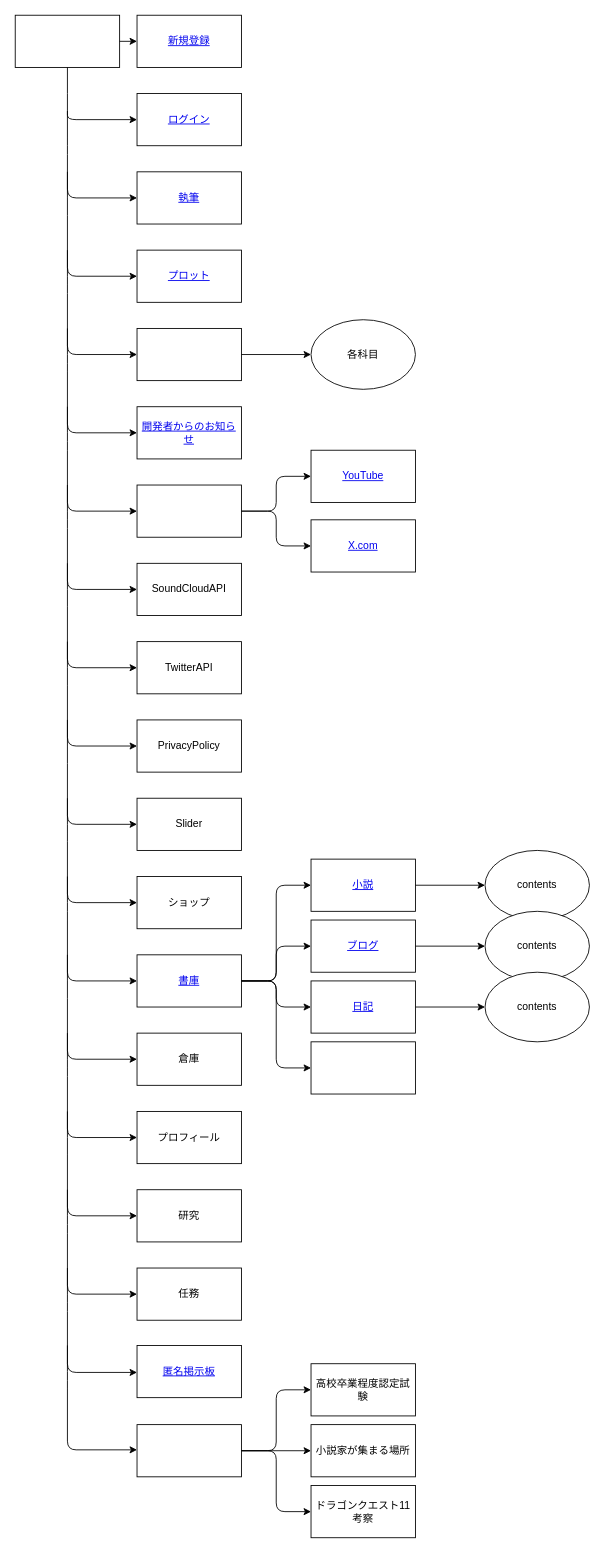
Some shapes in this 605 by 1553 pixel diagram are drawn without their labels. Each missing label, with the box of its shape:
HP: (14, 14, 120, 67)
Slack: (136, 1424, 241, 1477)
動画: (310, 1041, 415, 1094)
開発者に問い合わせる: (136, 484, 241, 537)
高卒認定試験アプリ: (136, 328, 241, 381)
